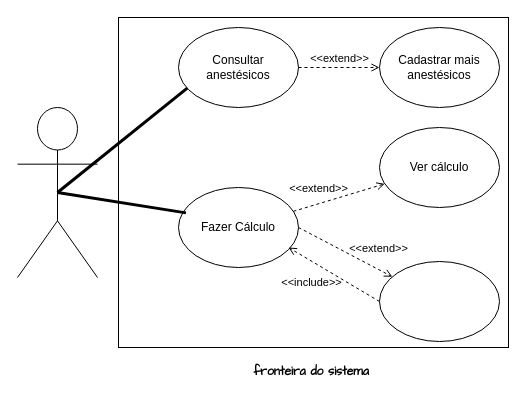
The diagram is 526 pixels wide and 405 high, and some of its shapes have lost their labels. The centre of each missing label's shape, as x and y in pixels:
"Adicionar variáveis" belongs at point 439,301.
"usuário" belongs at point 57,192.
